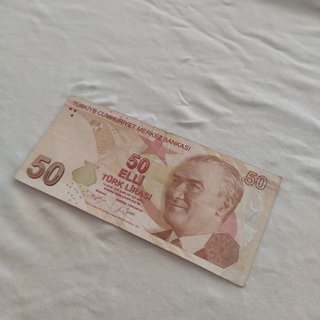50TLFront: (14, 96, 283, 286)
